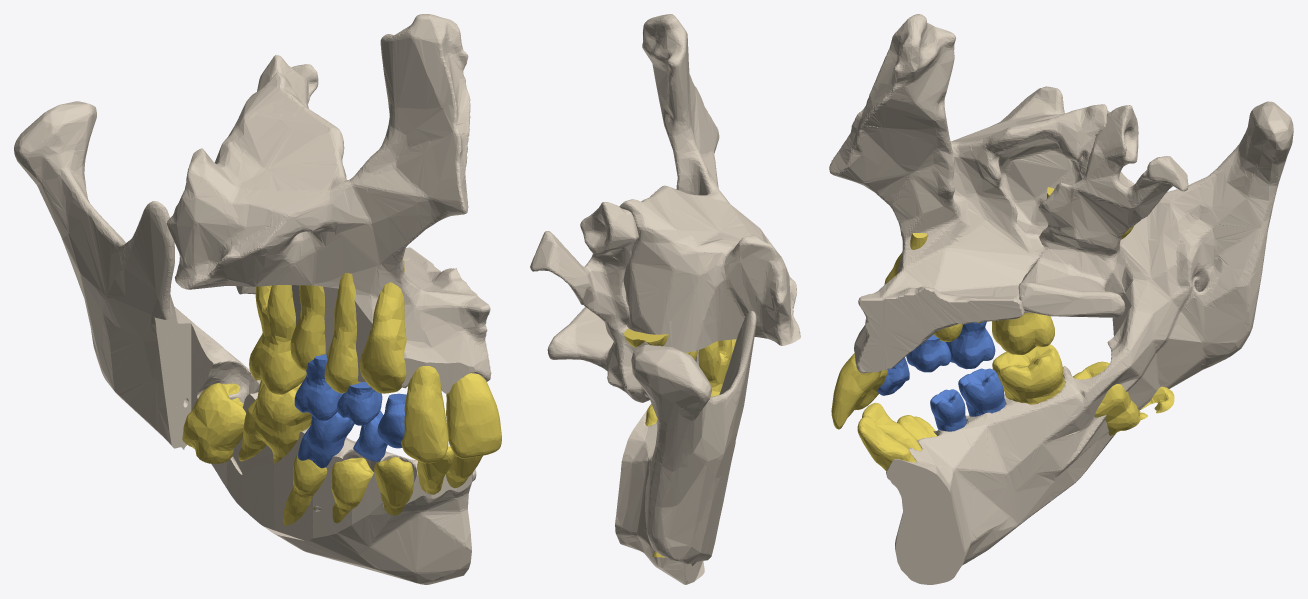
File: age-10-5.glb
The picture shows the model from 3 angles, left to right: view 1: azimuth 30°, elevation 25°; view 2: azimuth 150°, elevation 25°; view 3: azimuth 270°, elevation 25°; orthographic projection. The views are drawn at different scales.
Parts seen in each view (by area): view 1: upper-bone, lower-bone, upper-adult-teeth, lower-adult-teeth, upper-baby-teeth, lower-baby-teeth; view 2: upper-bone, lower-bone, upper-adult-teeth; view 3: upper-bone, lower-bone, lower-adult-teeth, upper-adult-teeth, upper-baby-teeth, lower-baby-teeth.
Boxes of the visible parts, x1,y1,x2,y2 form: upper-bone: (167, 14, 491, 393); lower-bone: (14, 101, 476, 584); upper-adult-teeth: (249, 260, 501, 463); lower-adult-teeth: (182, 380, 482, 525); upper-baby-teeth: (294, 354, 406, 448); lower-baby-teeth: (297, 410, 387, 468); upper-bone: (530, 14, 800, 402); lower-bone: (615, 311, 756, 584); upper-adult-teeth: (624, 328, 736, 397); upper-bone: (829, 14, 1188, 373); lower-bone: (886, 101, 1293, 584); lower-adult-teeth: (857, 344, 1174, 470); upper-adult-teeth: (831, 187, 1134, 429); upper-baby-teeth: (878, 321, 995, 395); lower-baby-teeth: (930, 368, 1005, 431).
Size of the model in its own units: 0.0517 by 0.1088 by 0.0824.
